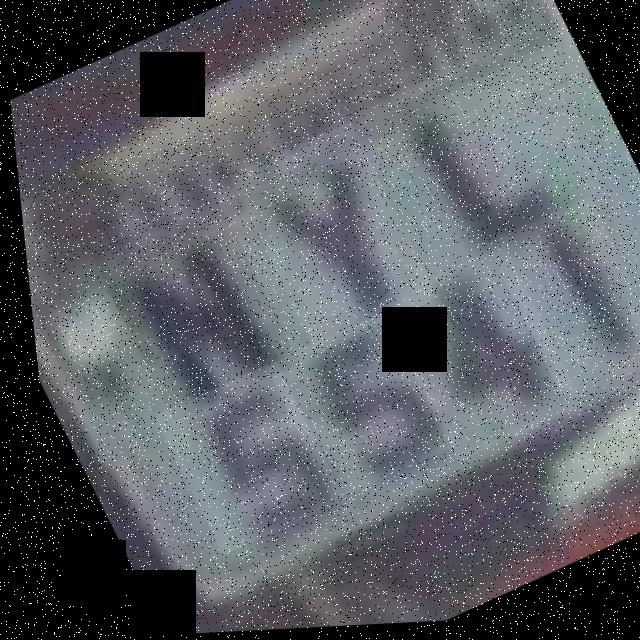1: (476, 200, 640, 412)
4: (367, 247, 578, 469)
5: (253, 310, 453, 506), (141, 361, 338, 559)
J: (371, 64, 604, 298)
N: (80, 195, 295, 425)
Y: (221, 122, 435, 358)
